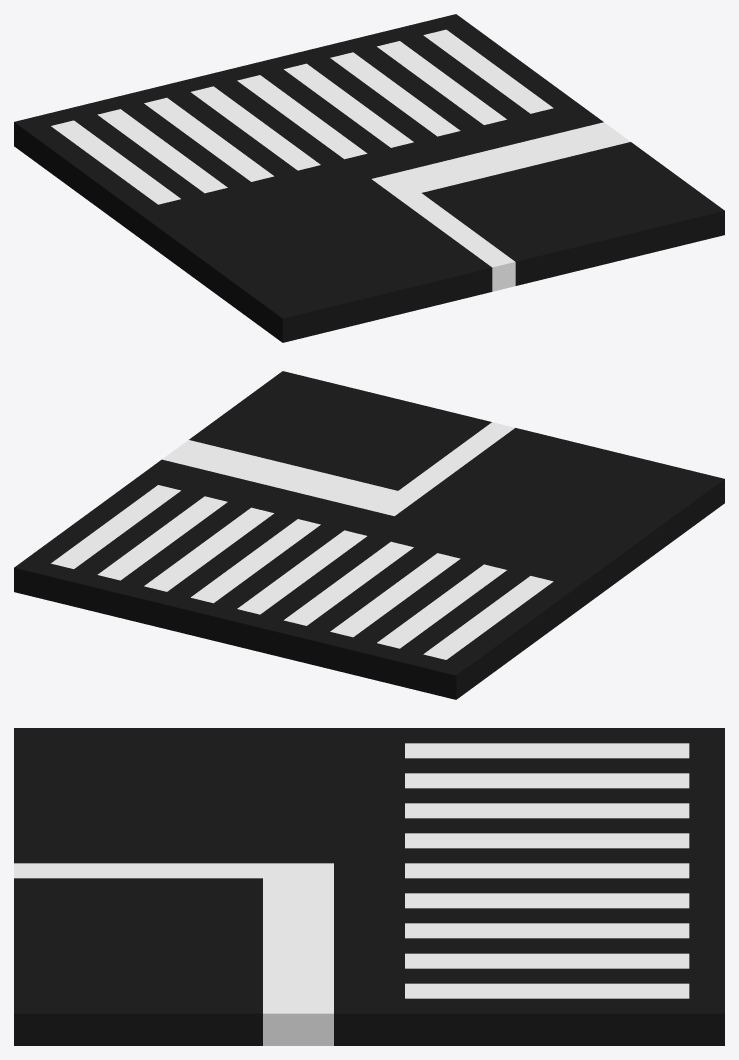
File: ConstructionMaterials-62.obj
3 views of the same model, one above another, from view 1: azimuth 30°, elevation 25°; view 2: azimuth 150°, elevation 25°; view 3: azimuth 270°, elevation 25° (orthographic). The views are drawn at different scales.
Bounding box in the file's own units: 1.9 × 0.1 × 2.
1 material, 1 textured.
